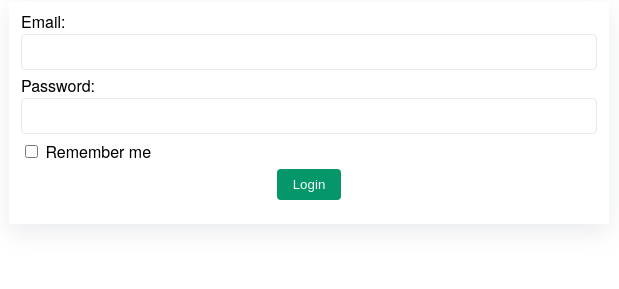
Test: Login component › show error message when user passes wrong credentials
The width and height of the screenshot is (619, 289).
In the field labelled "Email:": (309, 52) [21,34,597,70], type "valid@email.pl"
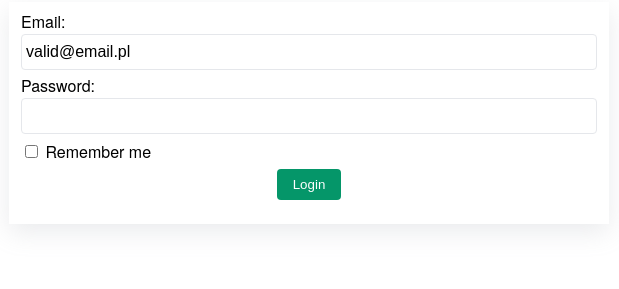
In the password field labelled "Password:": (309, 116) [21,98,597,134], type "Val1dPa55word"
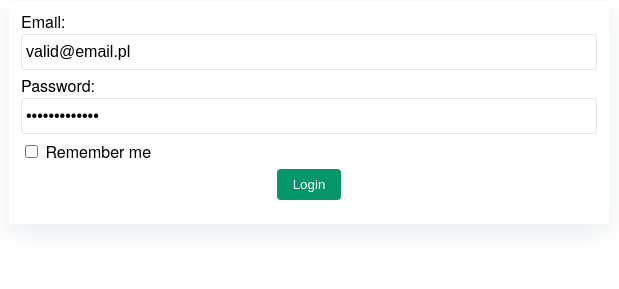
Click the button "Login": (309, 184) [277,169,341,200]
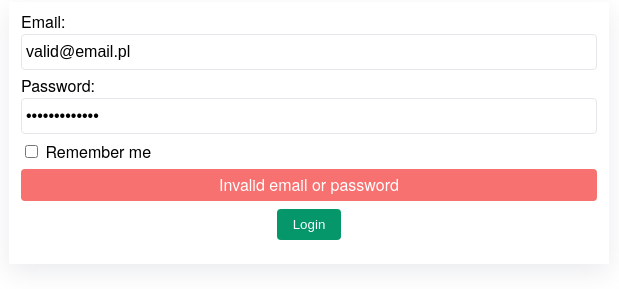
Expected: the text "Invalid email or password" is shown, [21,169,597,201]
